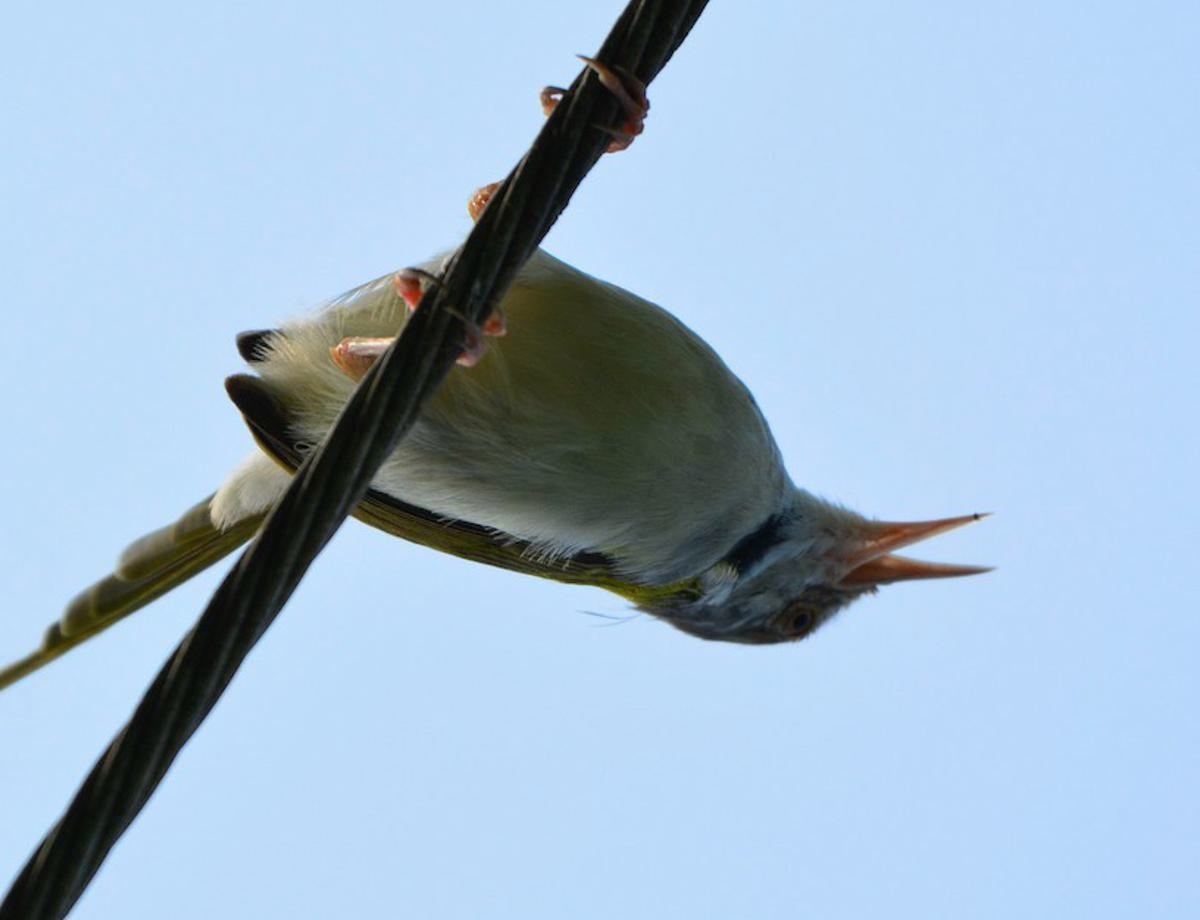tailorbird: (63, 221, 994, 734)
